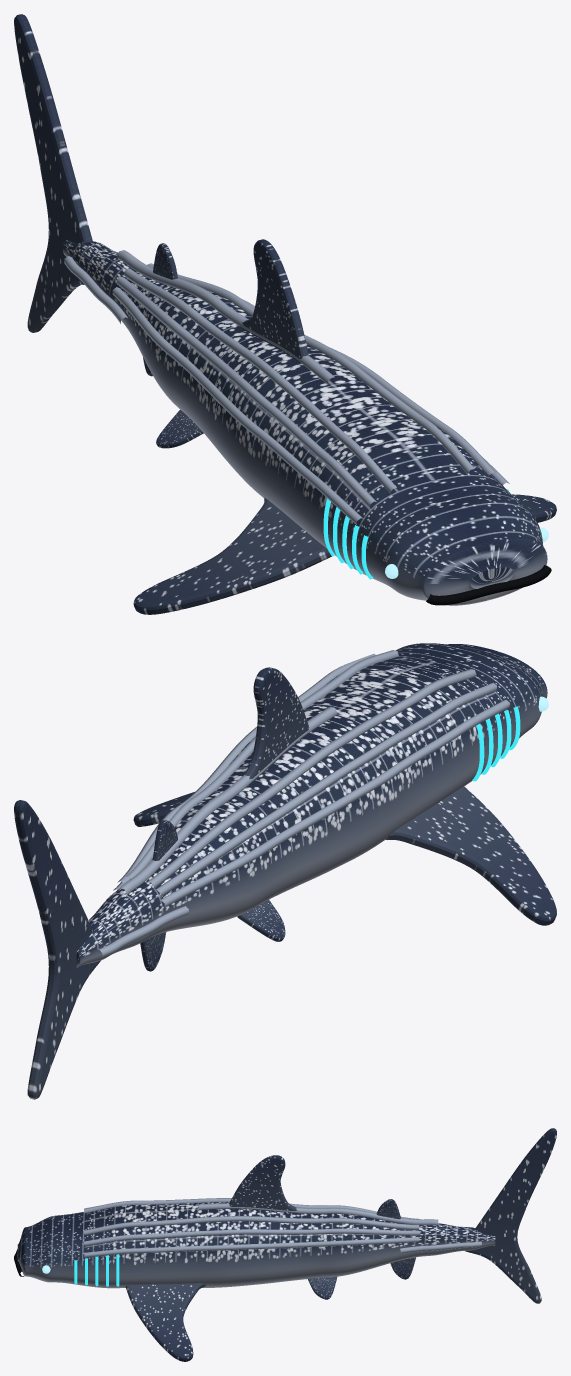
The model's file is whale_shark.glb.
The picture shows the model from 3 angles, top to bottom: view 1: azimuth 30°, elevation 25°; view 2: azimuth 150°, elevation 25°; view 3: azimuth 270°, elevation 25°; orthographic projection. The views are drawn at different scales.
Parts seen in each view (by area): view 1: skin, fin, ridge, gill, mouth; view 2: skin, fin, ridge, gill; view 3: skin, fin, ridge, gill.
Part boxes in pixels (<box>): skin: <box>63,240,547,605</box>; fin: <box>14,14,556,614</box>; ridge: <box>64,250,509,525</box>; gill: <box>323,489,518,579</box>; mouth: <box>426,565,551,605</box>; skin: <box>76,643,547,967</box>; fin: <box>14,667,556,1099</box>; ridge: <box>99,650,509,957</box>; gill: <box>472,706,520,781</box>; skin: <box>17,1202,495,1288</box>; fin: <box>125,1128,556,1361</box>; ridge: <box>84,1198,481,1257</box>; gill: <box>74,1254,119,1286</box>.
Bounding box in the file's own units: 6.89 × 4.89 × 13.64.
Materials: 6 (2 with a texture image).
